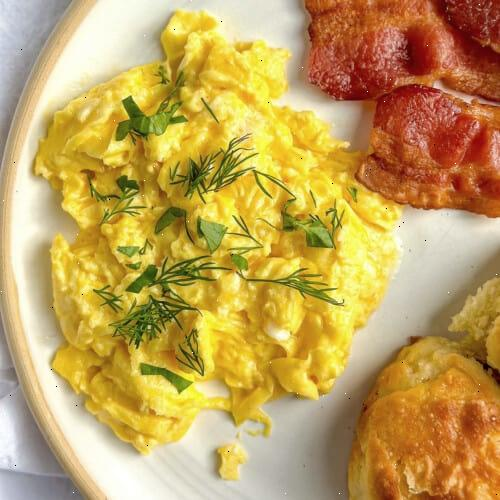eggs: (55, 28, 354, 389)
